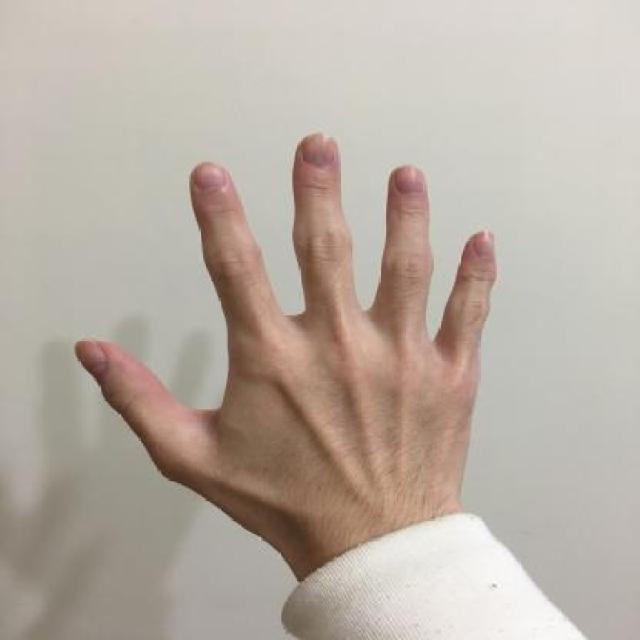bare_hand: (69, 122, 516, 566)
